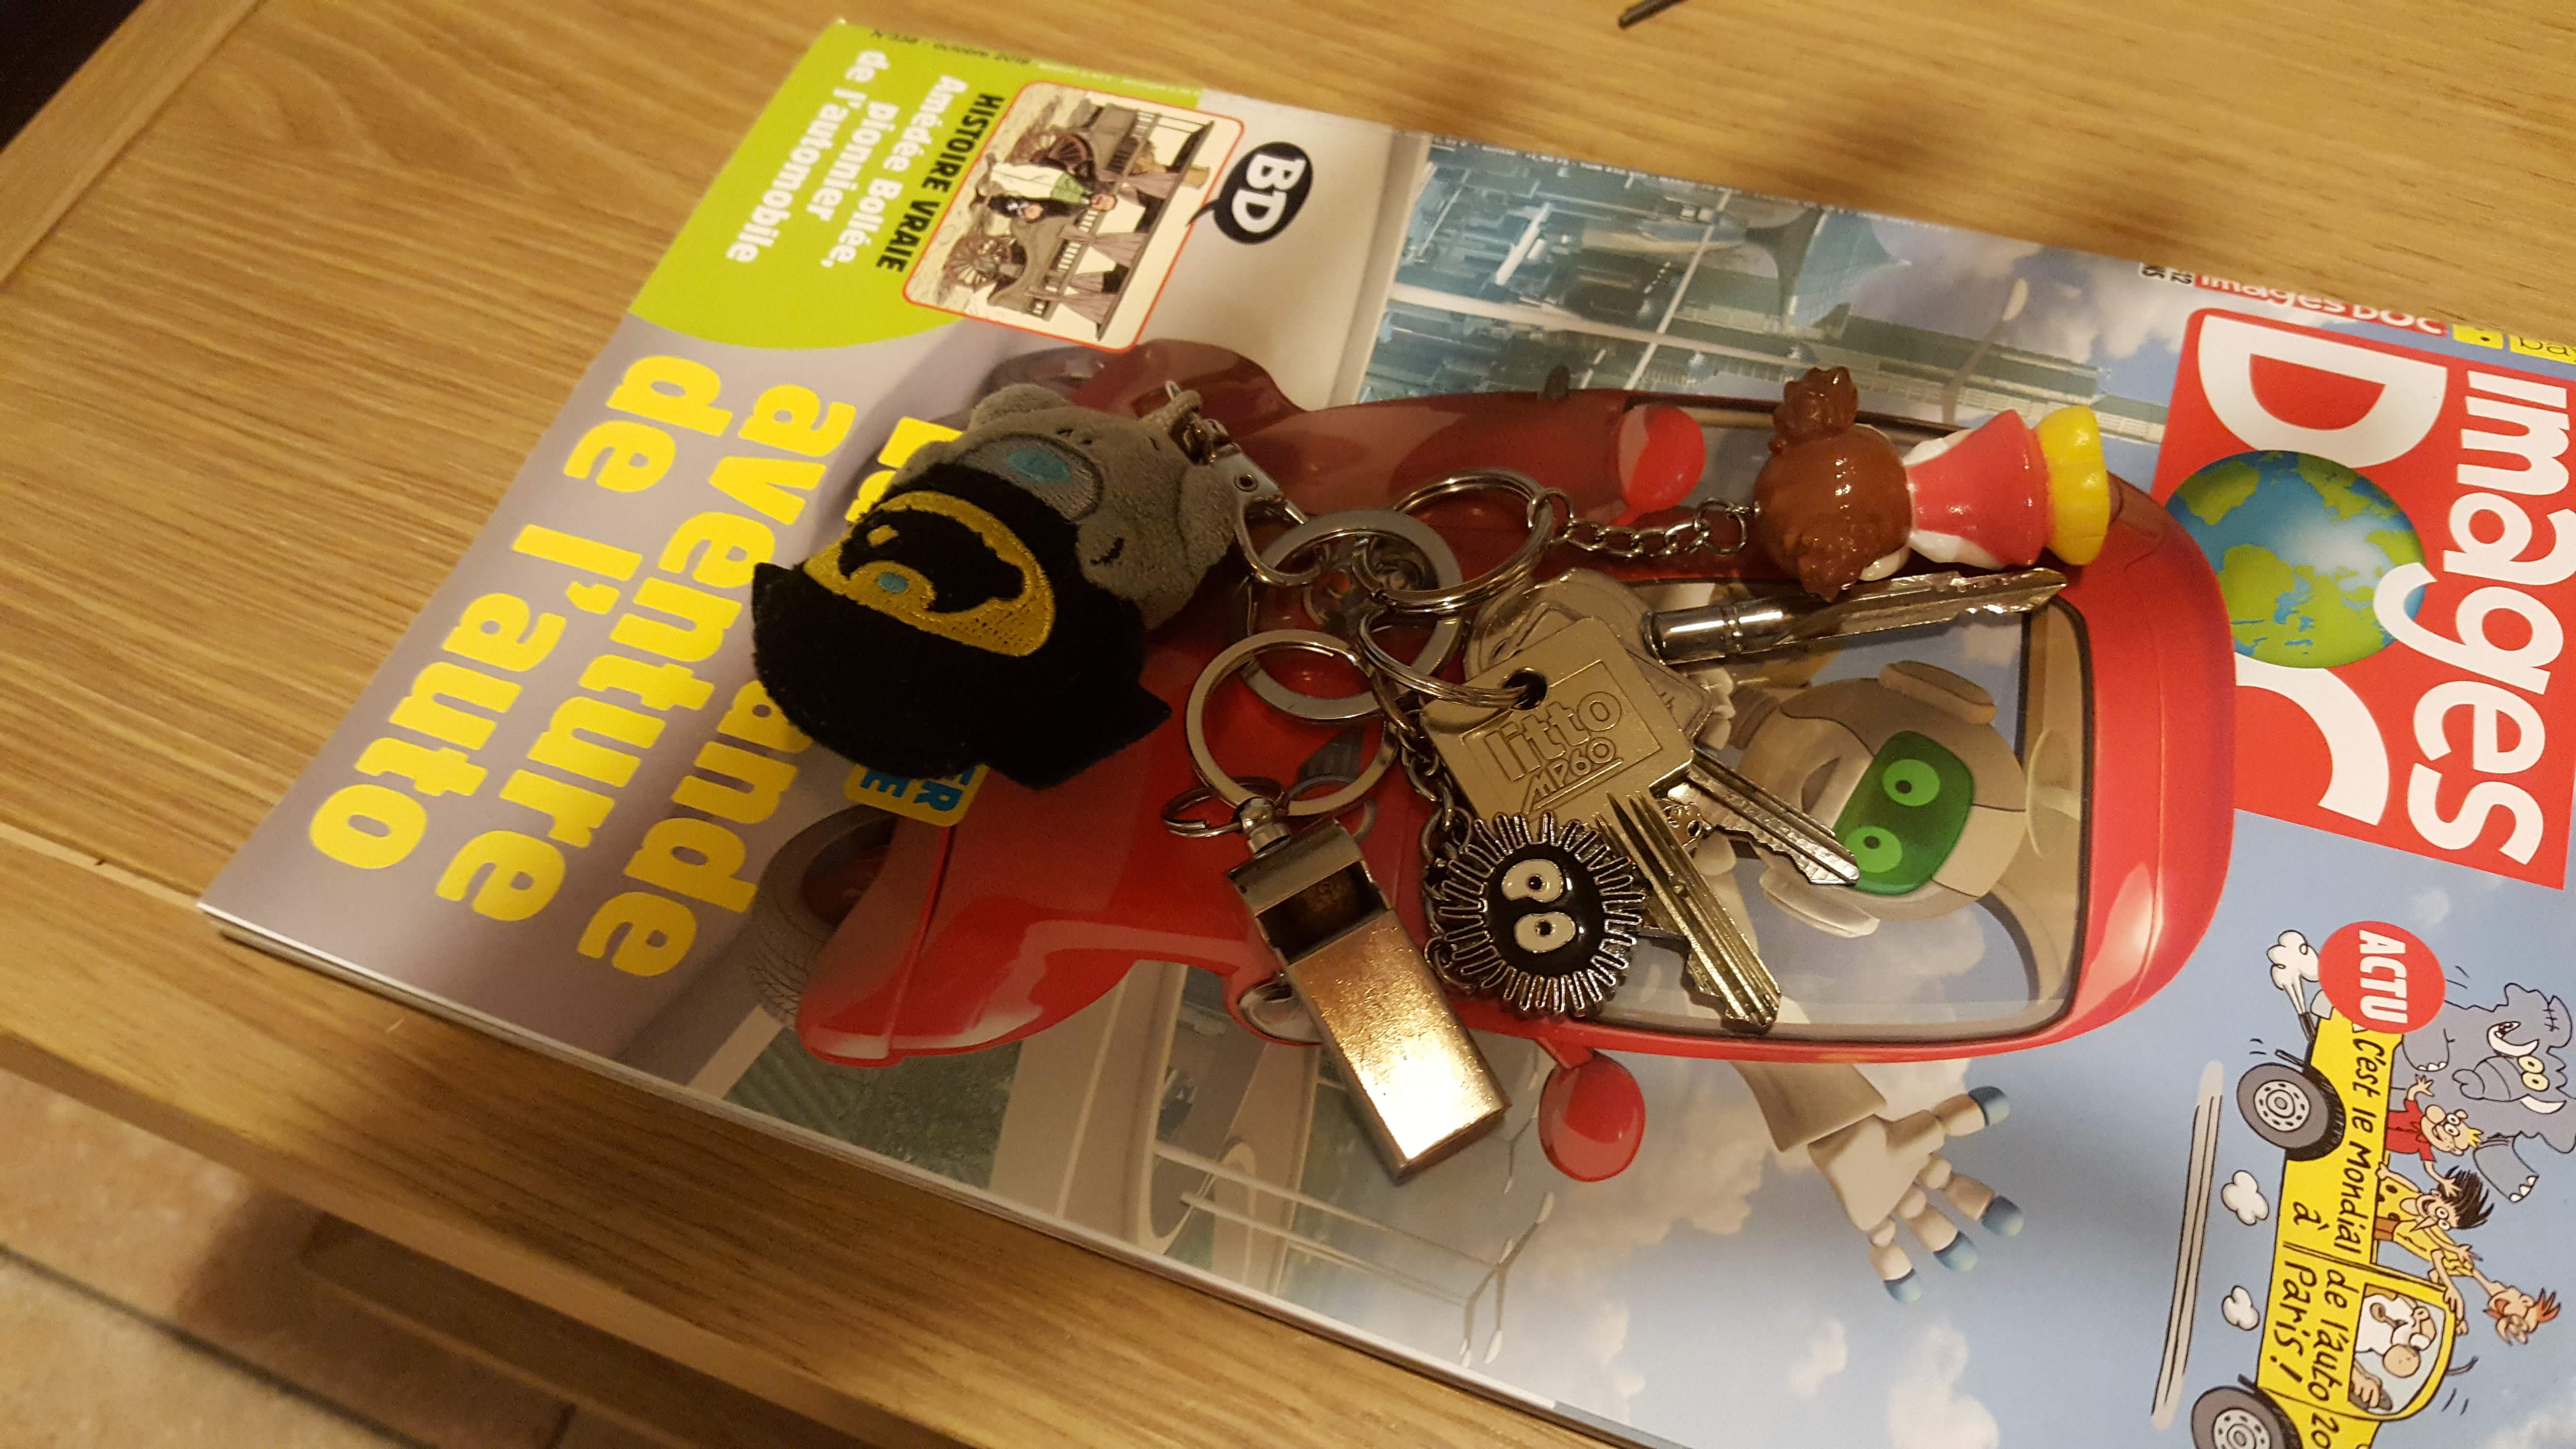key: (1421, 621, 1789, 1042)
